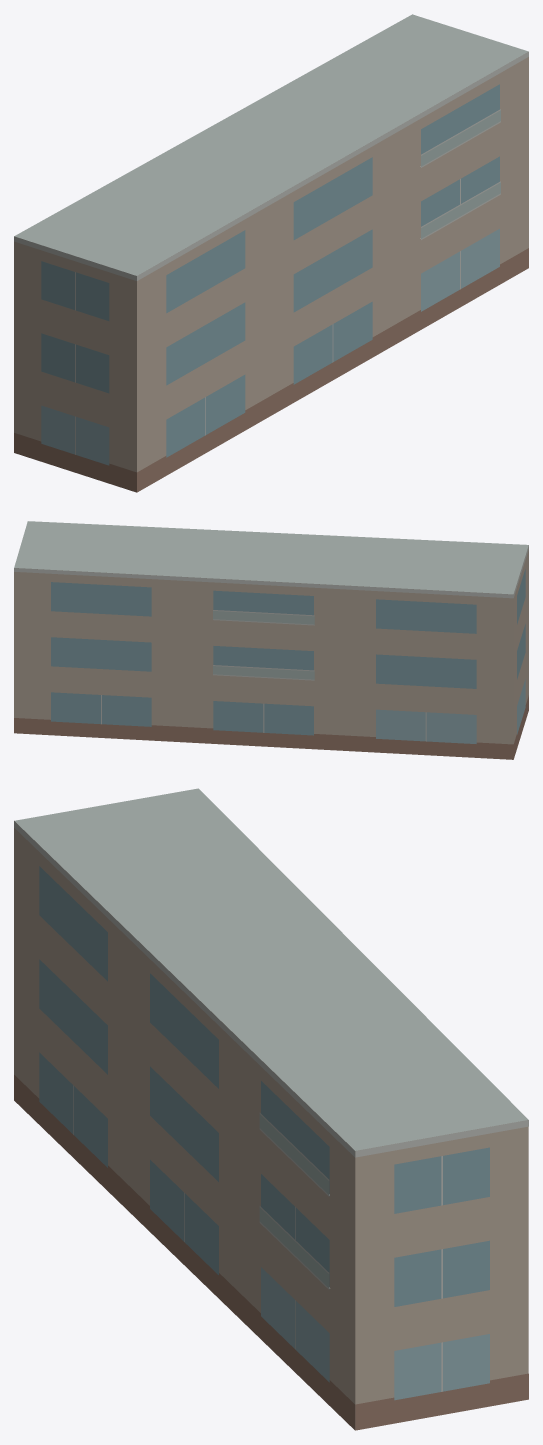
File: survey-upis-32866386.glb
3 renders of one model, top to bottom at view 1: azimuth 30°, elevation 25°; view 2: azimuth 150°, elevation 25°; view 3: azimuth 270°, elevation 25°, orthographic. The views are drawn at different scales.
Visible parts, largest first — view 1: survey-upis-32866386.tmp; view 2: survey-upis-32866386.tmp; view 3: survey-upis-32866386.tmp.
Part boxes in pixels (x1,y1,x2,y2): survey-upis-32866386.tmp: [14, 14, 528, 492]; survey-upis-32866386.tmp: [14, 521, 528, 759]; survey-upis-32866386.tmp: [14, 788, 528, 1430].
Bounding box in the file's own units: 28.37 × 10.2 × 17.03.
